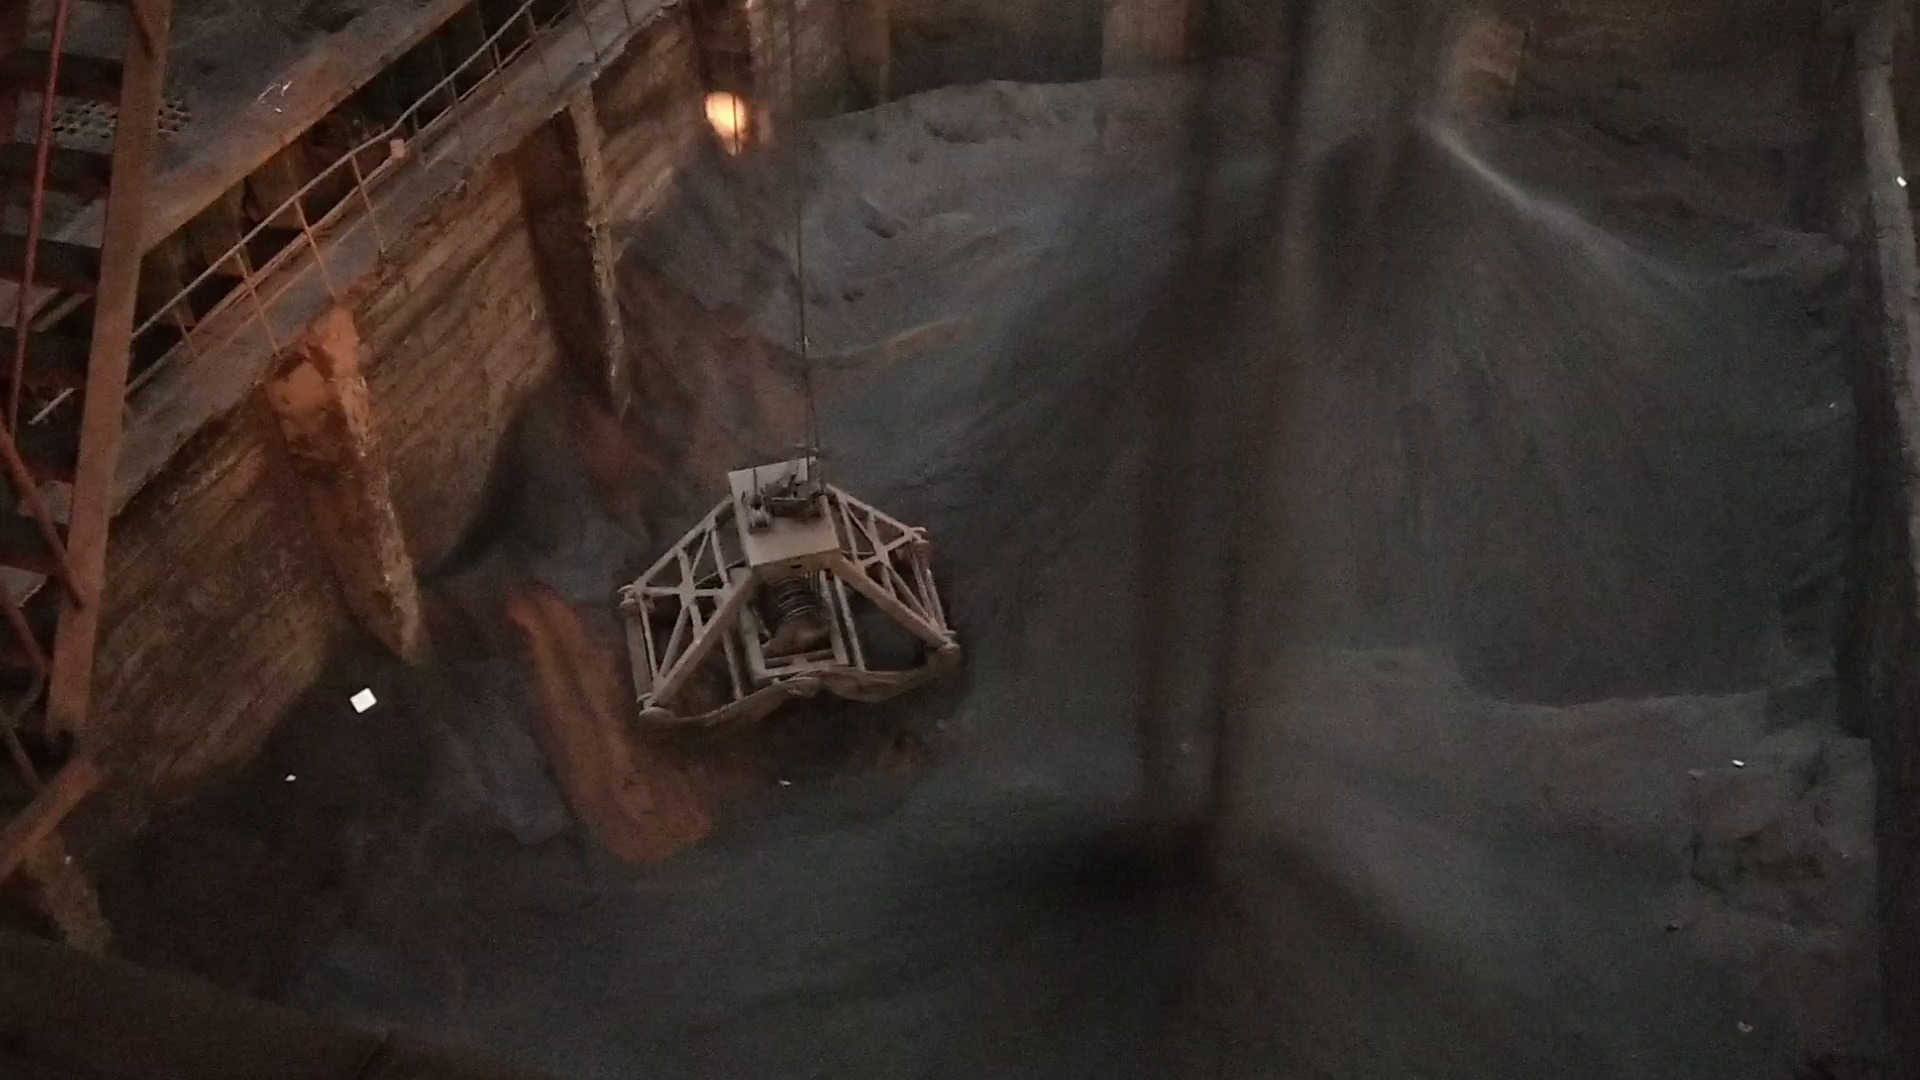grab: (609, 442, 972, 738)
